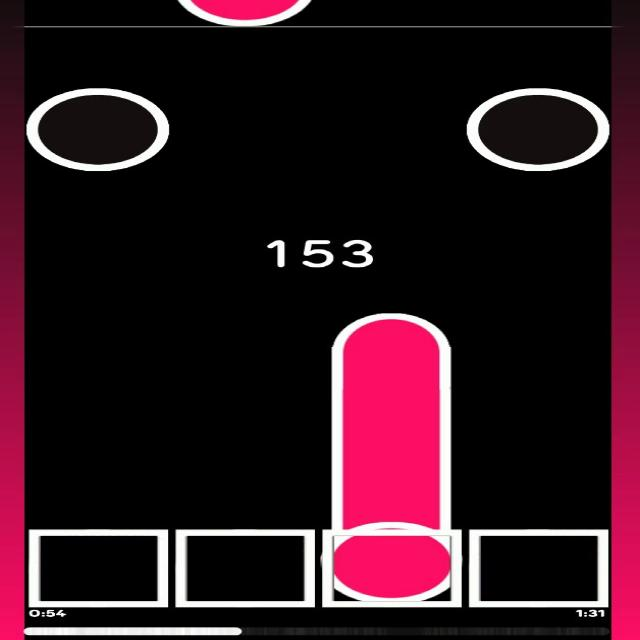end_hold: (332, 301, 451, 355)
note: (469, 84, 606, 170), (29, 86, 168, 170)
start_hold: (319, 498, 463, 601), (177, 0, 310, 27)
